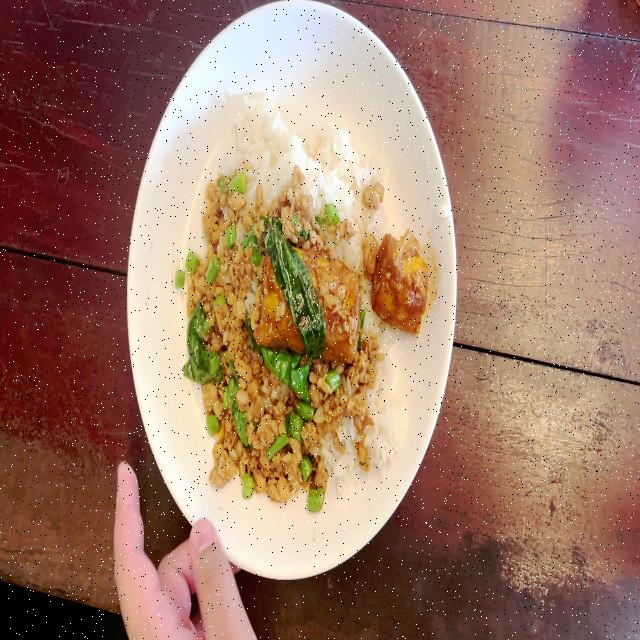fried_tofo: (259, 248, 357, 363), (376, 228, 426, 330)
minced_pork: (180, 164, 256, 370), (188, 297, 258, 496), (200, 368, 357, 427), (203, 433, 329, 503), (355, 342, 381, 464), (257, 182, 311, 236), (309, 224, 351, 243)
rice: (310, 127, 373, 243), (234, 116, 308, 189), (374, 357, 396, 470), (330, 432, 356, 492)
stir_fried_basil: (190, 105, 430, 503)
